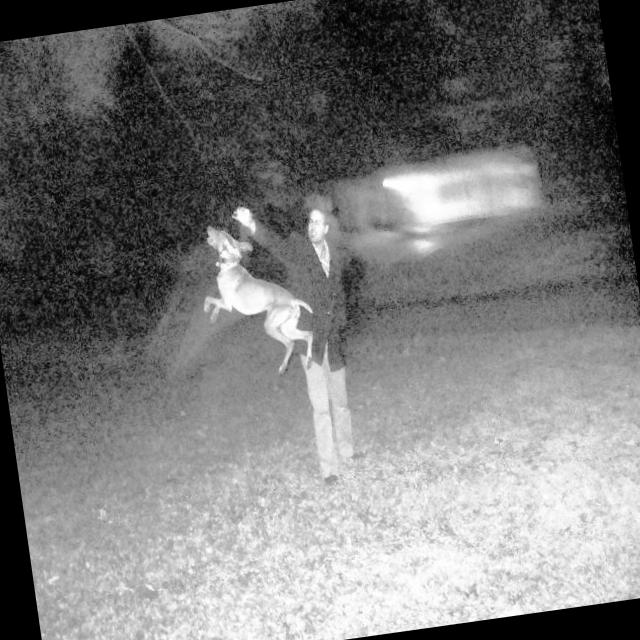Dog: (173, 216, 329, 401)
